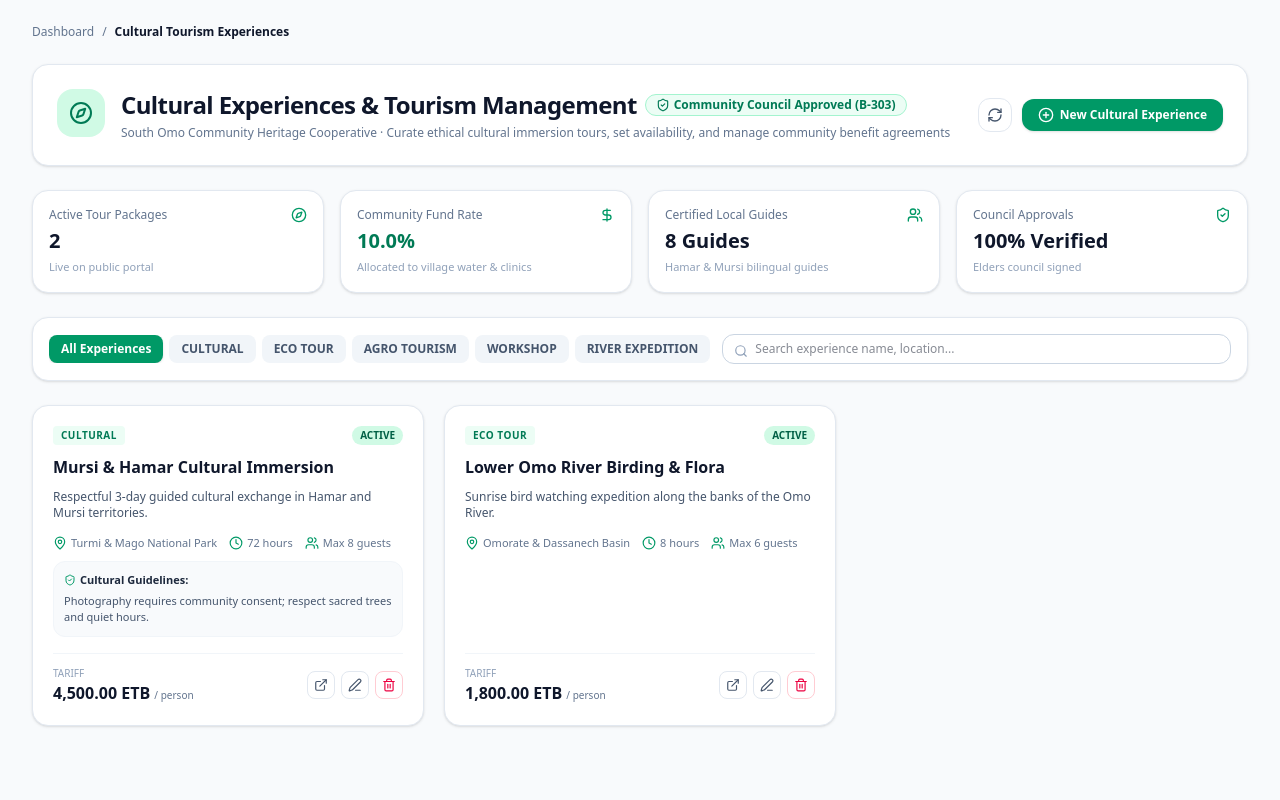
Scenario: F-911: Cultural Tourism Experiences & Package Management › filters packages by category tabs and search input
Expected: the element with test id "packages-grid" is shown, [32,404,836,726]
// Filter by ECO_TOUR
Click the button with test id "filter-cat-ECO_TOUR" at x=304, y=348, box [262,334,346,362]
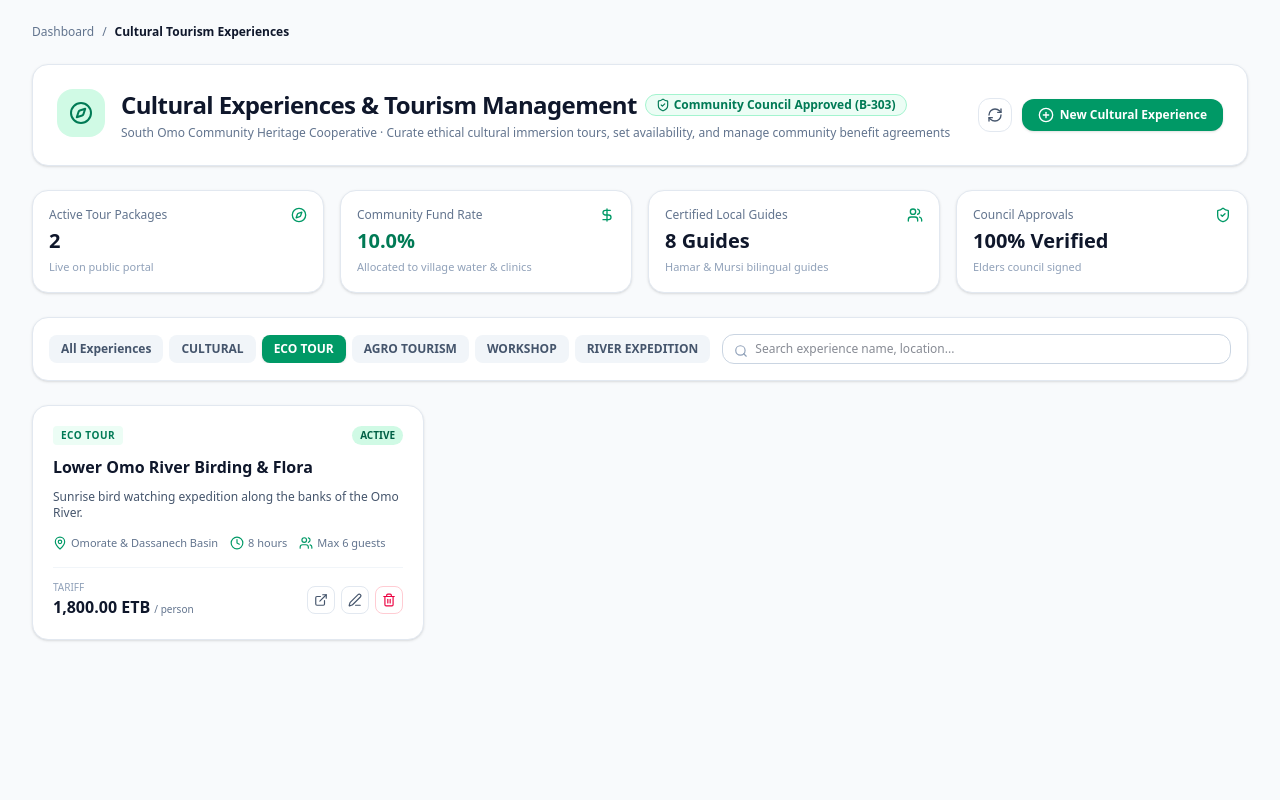
Expected: the heading "Lower Omo River Birding & Flora" is shown, [53,456,313,478]
Now the heading "Mursi & Hamar Cultural Immersion" is gone
// Reset to ALL
Click the button with test id "filter-cat-ALL" at x=106, y=348, box [49,334,163,362]
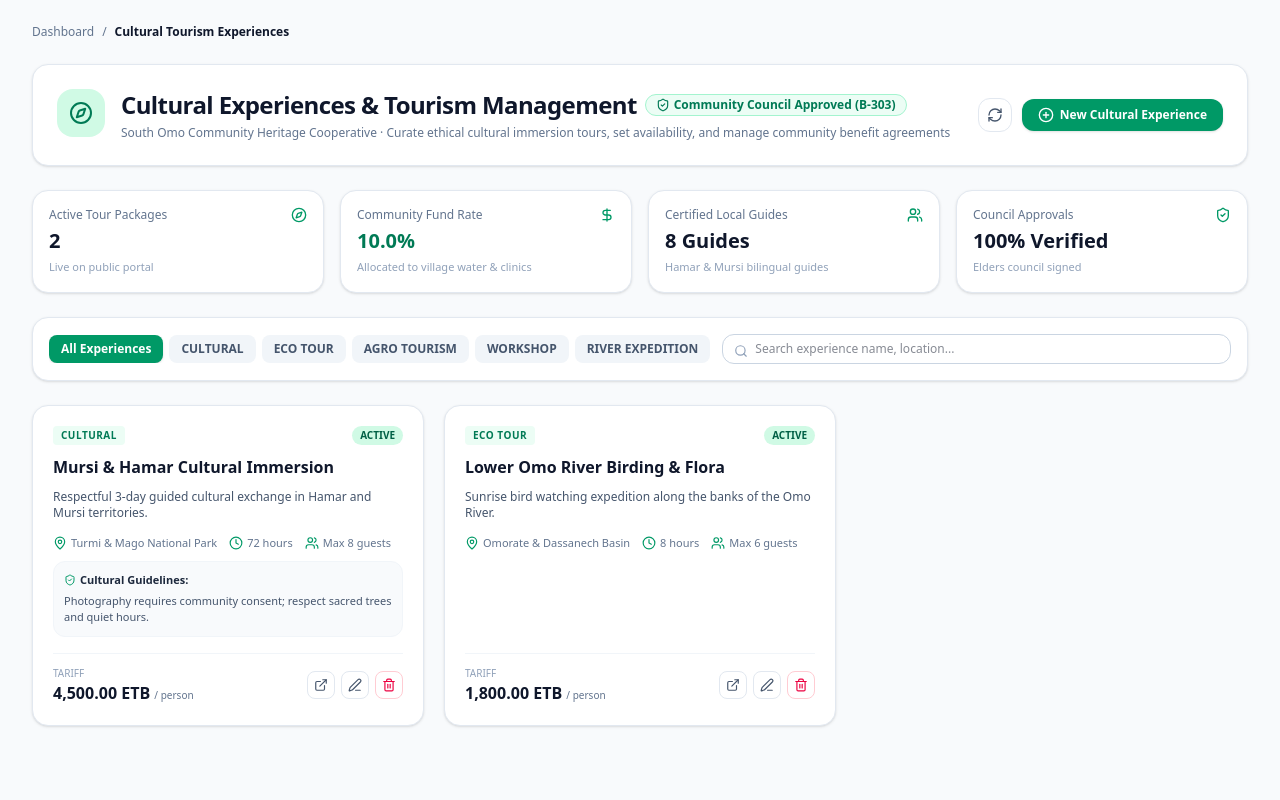
// Search query
Type "Birding" into the field with test id "search-packages-input" at x=977, y=348, box [722,334,1231,364]
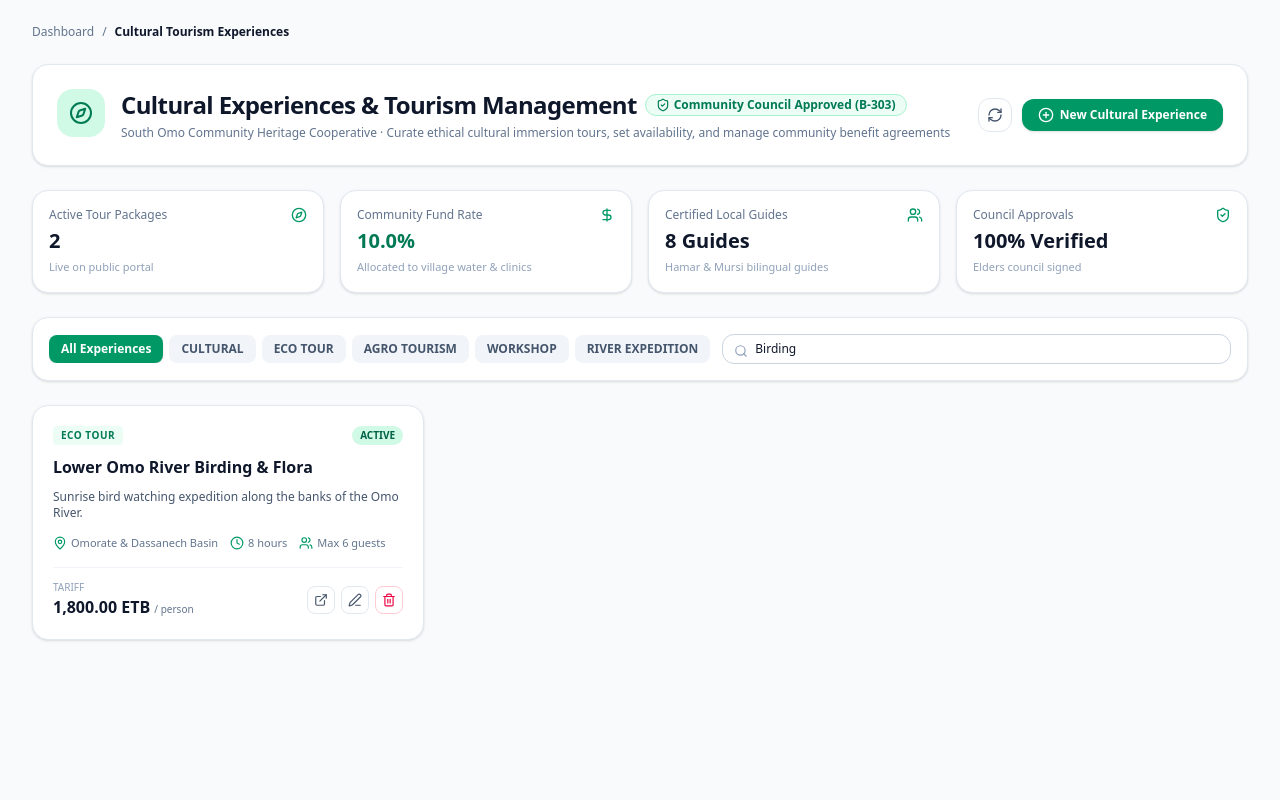
Expected: the heading "Lower Omo River Birding & Flora" is shown, [53,456,313,478]
Now the heading "Mursi & Hamar Cultural Immersion" is gone
